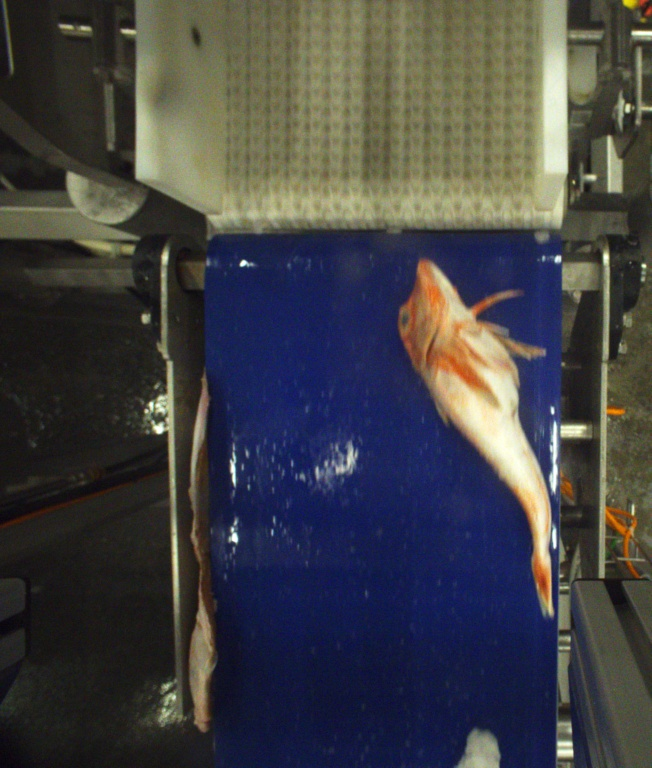GUU: (396, 259, 556, 620)
